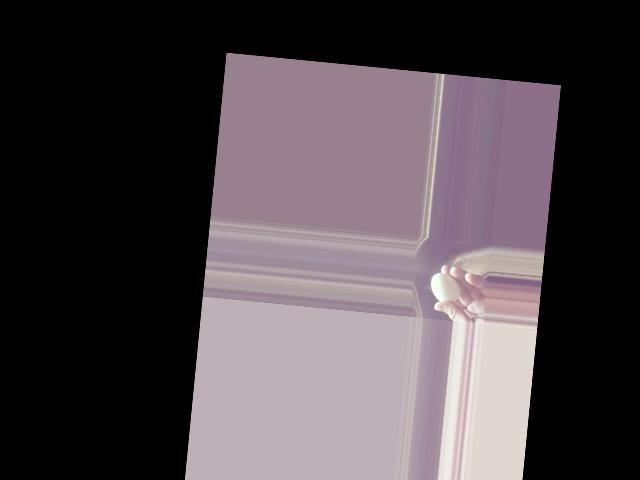egg: (429, 272, 461, 303)
